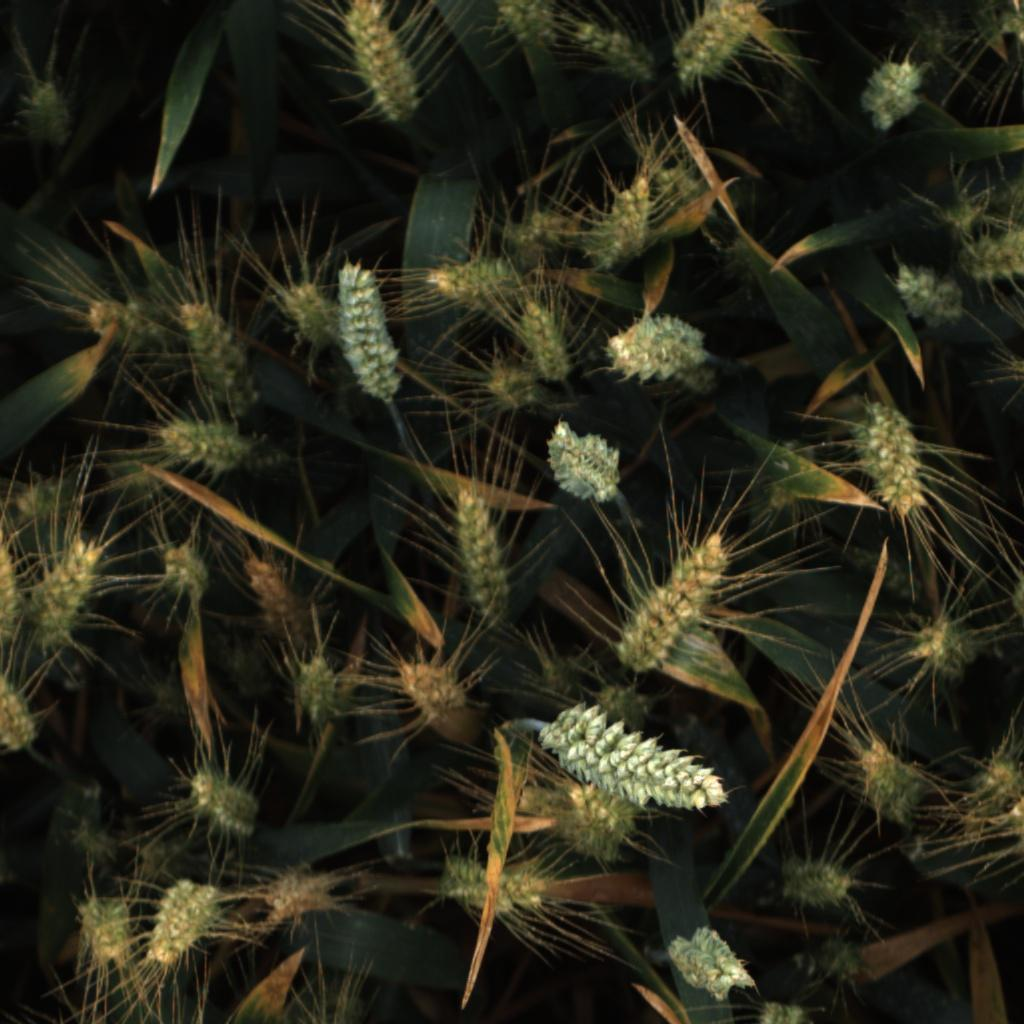0-0: (529, 699, 733, 813), (614, 528, 736, 673), (447, 484, 525, 633), (333, 0, 420, 120), (176, 287, 259, 408), (339, 260, 409, 403), (847, 402, 930, 518), (602, 304, 709, 388), (30, 534, 107, 649), (675, 0, 762, 89), (435, 852, 546, 919), (849, 737, 929, 829), (665, 923, 754, 1005), (584, 172, 654, 276), (147, 417, 264, 477), (545, 417, 622, 507), (554, 783, 632, 867), (145, 881, 220, 967), (905, 611, 984, 685), (245, 552, 306, 647), (856, 56, 930, 134), (521, 291, 580, 387), (187, 768, 262, 842), (577, 19, 659, 85), (889, 261, 965, 331), (14, 76, 81, 155), (264, 863, 344, 924), (71, 887, 132, 966), (774, 854, 857, 912), (429, 255, 521, 306), (392, 659, 470, 719), (956, 220, 1024, 288), (282, 274, 340, 351), (7, 467, 82, 525), (84, 292, 156, 351), (292, 651, 345, 730), (653, 162, 720, 224), (0, 665, 40, 757), (506, 205, 574, 259), (158, 538, 213, 604), (533, 647, 598, 702), (855, 548, 920, 603), (0, 523, 27, 653), (481, 359, 540, 417), (490, 3, 551, 58), (805, 930, 865, 985), (589, 677, 653, 724), (968, 755, 1024, 806), (132, 836, 192, 882), (938, 195, 981, 240), (69, 821, 115, 862), (149, 684, 190, 720), (991, 175, 1024, 219), (755, 996, 808, 1023), (762, 477, 798, 511), (1008, 572, 1024, 619), (999, 10, 1024, 39), (1009, 796, 1024, 840)
